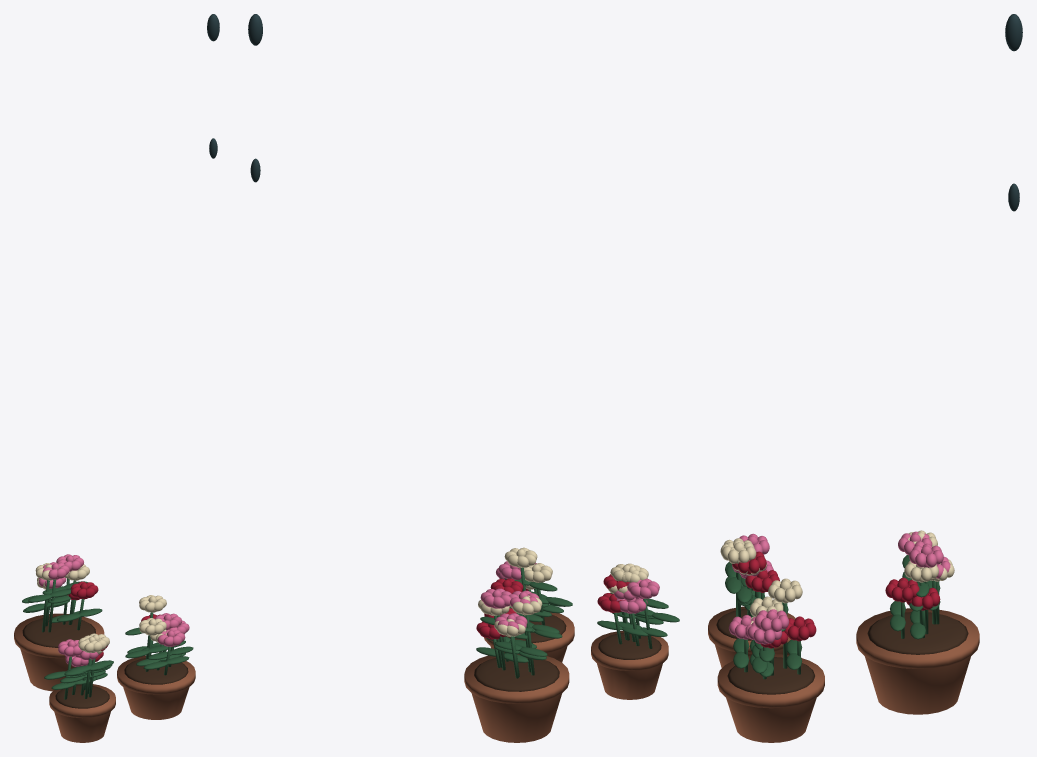
The model's file is night-alley-flora.glb.
3 renders of one model, left to right at view 1: azimuth 30°, elevation 25°; view 2: azimuth 150°, elevation 25°; view 3: azimuth 270°, elevation 25°, orthographic. The views are drawn at different scales.
Visible parts, largest first — view 1: Flora_Chipped terracotta flower pots, Flora_Night green stems and leaves, Flora_Plant pot soil, Flora_Rose pink petals, Flora_Ivory rose petals, Flora_Burgundy rose petals, Flora_Blue black wrought iron; view 2: Flora_Chipped terracotta flower pots, Flora_Night green stems and leaves, Flora_Plant pot soil, Flora_Ivory rose petals, Flora_Rose pink petals, Flora_Burgundy rose petals; view 3: Flora_Chipped terracotta flower pots, Flora_Plant pot soil, Flora_Night green stems and leaves, Flora_Rose pink petals, Flora_Burgundy rose petals, Flora_Ivory rose petals, Flora_Blue black wrought iron.
Part boxes in pixels (box(x1,y1,x2,y2)): Flora_Chipped terracotta flower pots: box(14, 613, 195, 742); Flora_Night green stems and leaves: box(22, 578, 193, 699); Flora_Plant pot soil: box(22, 616, 188, 708); Flora_Rose pink petals: box(38, 554, 189, 666); Flora_Ivory rose petals: box(35, 563, 167, 653); Flora_Burgundy rose petals: box(67, 581, 161, 661); Flora_Blue black wrought iron: box(207, 14, 219, 158); Flora_Chipped terracotta flower pots: box(464, 612, 668, 742); Flora_Night green stems and leaves: box(476, 567, 679, 678); Flora_Plant pot soil: box(474, 615, 661, 691); Flora_Ivory rose petals: box(478, 547, 648, 636); Flora_Rose pink petals: box(480, 561, 659, 629); Flora_Burgundy rose petals: box(476, 574, 629, 639); Flora_Chipped terracotta flower pots: box(708, 606, 979, 742); Flora_Plant pot soil: box(716, 608, 968, 694); Flora_Night green stems and leaves: box(725, 555, 940, 679); Flora_Rose pink petals: box(729, 531, 950, 644); Flora_Burgundy rose petals: box(732, 551, 940, 648); Flora_Ivory rose petals: box(720, 530, 954, 624); Flora_Blue black wrought iron: box(1005, 14, 1022, 211).
Bounding box in the file's own units: 1.7 × 3.54 × 1.25.
